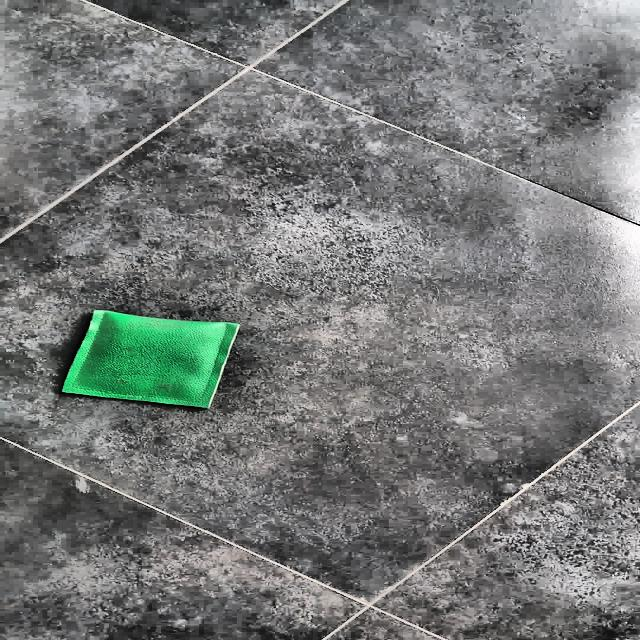payload: (61, 310, 238, 408)
